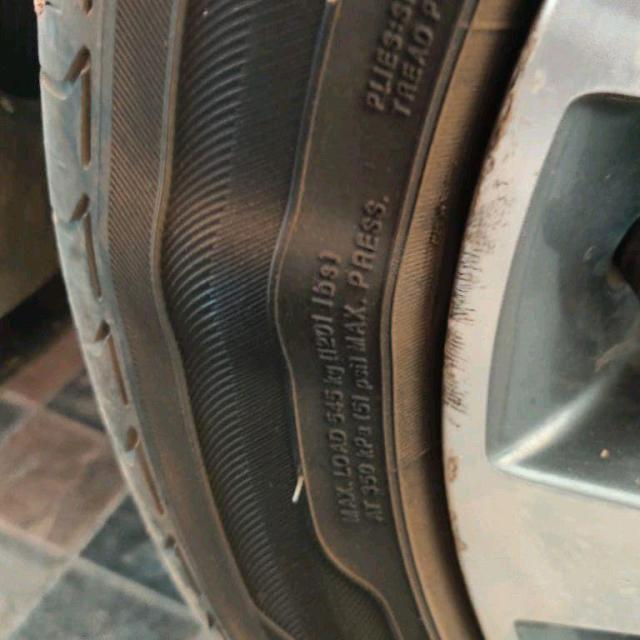Bulge: (136, 195, 378, 342)
